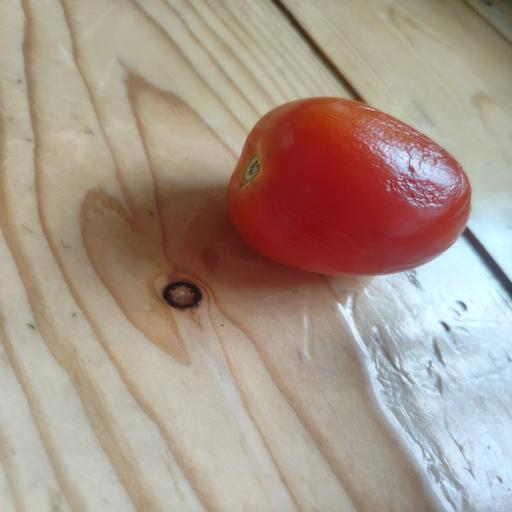ripe: (228, 97, 470, 276)
spoiled: (228, 97, 470, 276)
